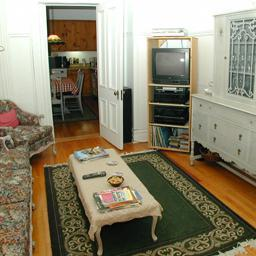Puerta: (95, 8, 122, 146)
